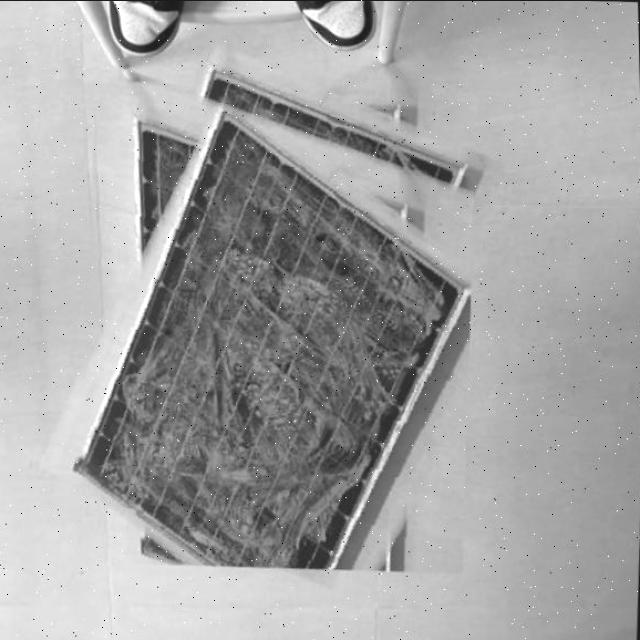Anomaly Solar Panel: (79, 116, 474, 575)
Surface Contaminant: (97, 124, 454, 569)
